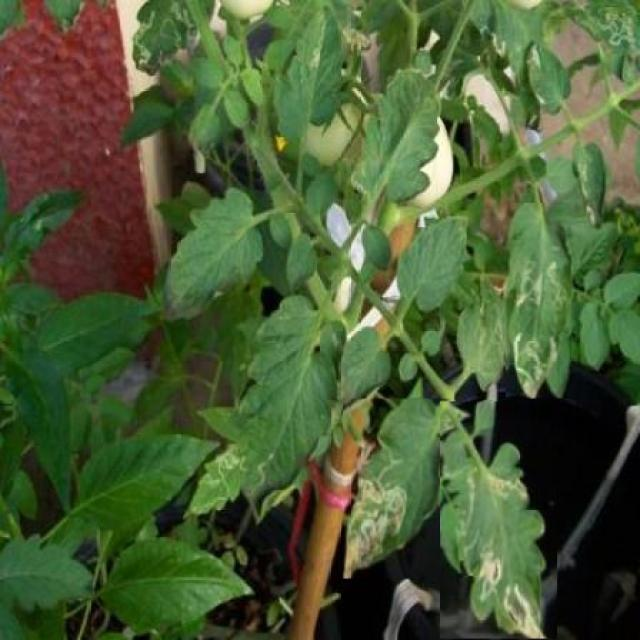Leaf Miner: (440, 402, 557, 638), (343, 398, 451, 578), (506, 203, 571, 398)
